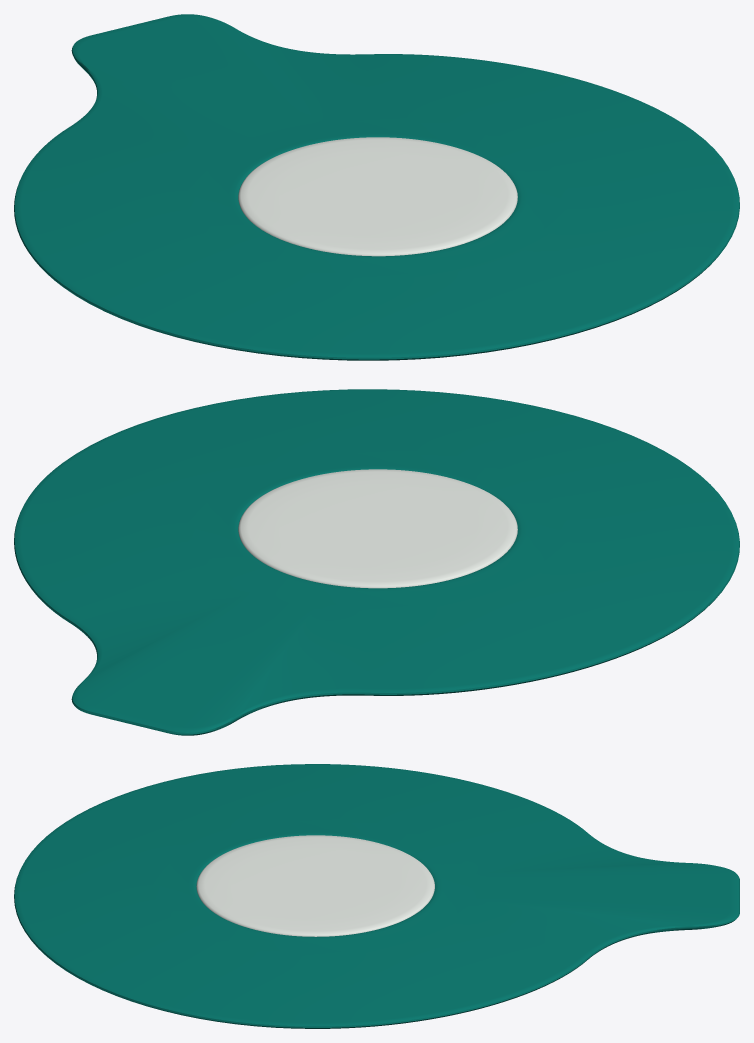
3 renders of one model, top to bottom at view 1: azimuth 30°, elevation 25°; view 2: azimuth 150°, elevation 25°; view 3: azimuth 270°, elevation 25°, orthographic. The views are drawn at different scales.
Parts seen in each view (by area): view 1: part_000_Molded_sealing_body, part_001_Center_insert; view 2: part_000_Molded_sealing_body, part_001_Center_insert; view 3: part_000_Molded_sealing_body, part_001_Center_insert.
Part boxes in pixels (<box>): part_000_Molded_sealing_body: <box>14,14,739,360</box>; part_001_Center_insert: <box>238,137,517,256</box>; part_000_Molded_sealing_body: <box>14,389,739,735</box>; part_001_Center_insert: <box>238,469,517,588</box>; part_000_Molded_sealing_body: <box>14,764,739,1028</box>; part_001_Center_insert: <box>196,835,434,936</box>.
Bounding box in the file's own units: 0.132 × 0.0036 × 0.154.
